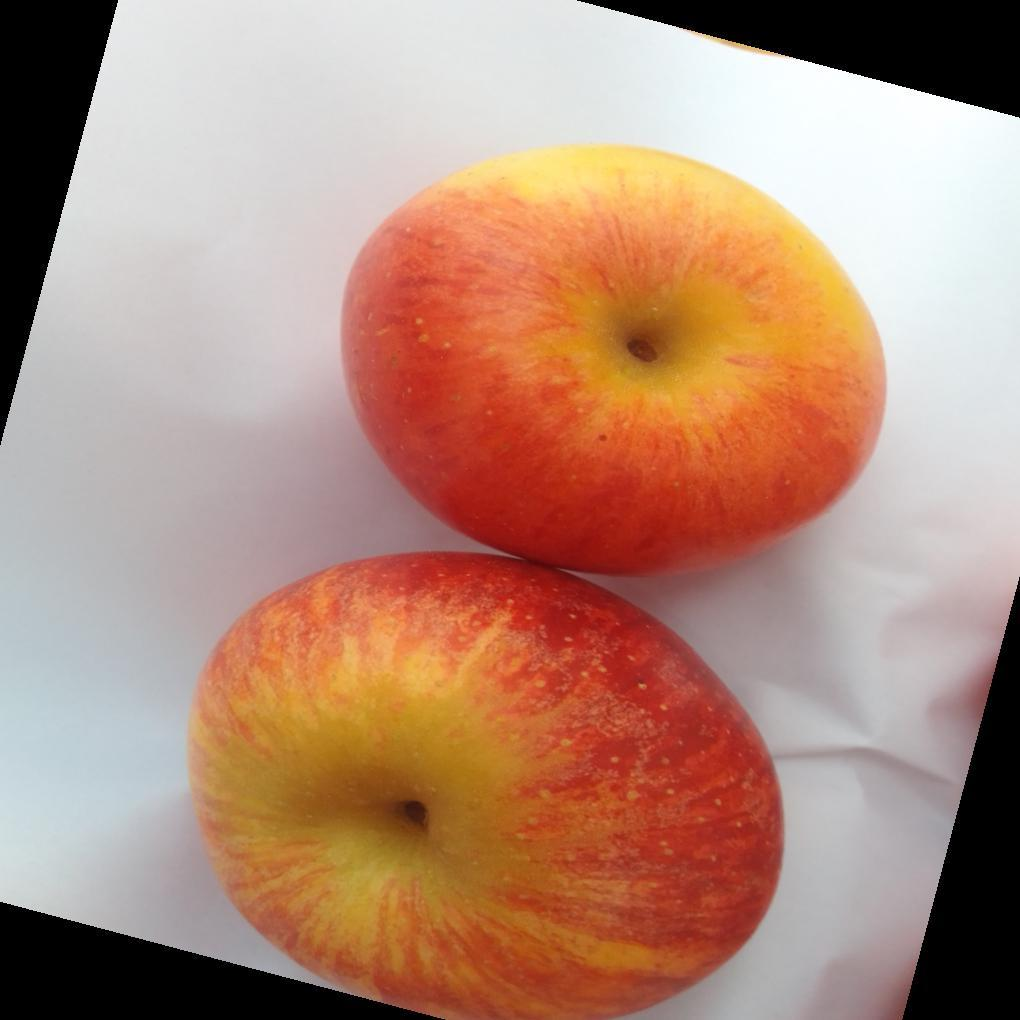FreshGuava: (183, 145, 888, 1020)
